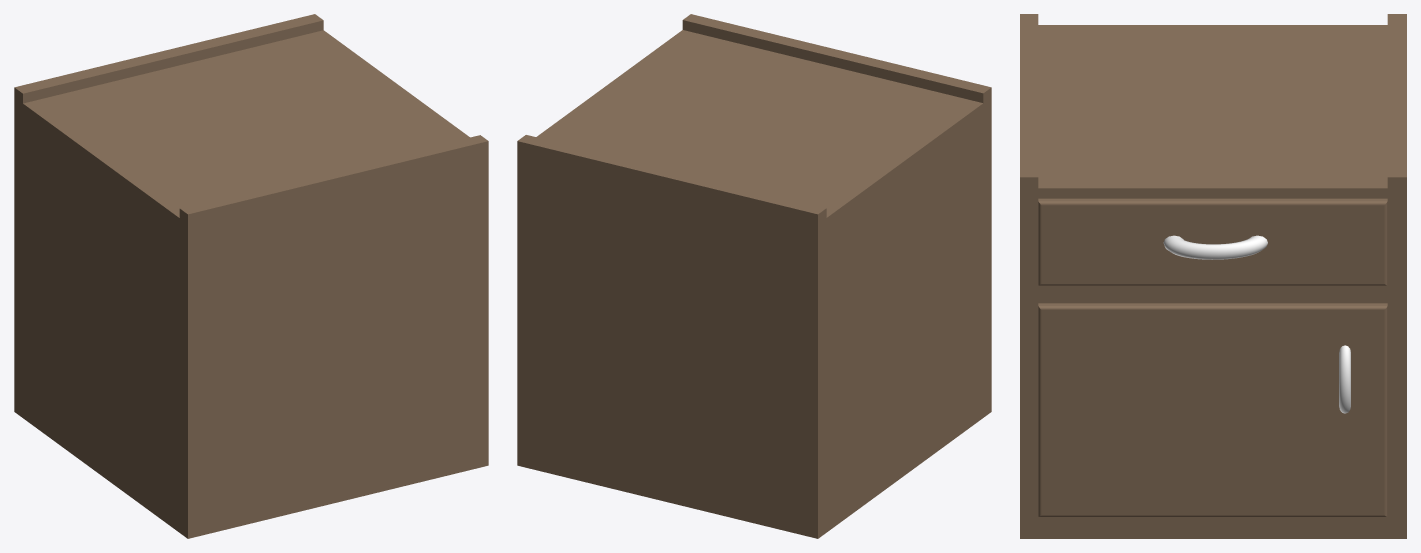
File: Night_Table.fbx
3 renders of one model, left to right at view 1: azimuth 30°, elevation 25°; view 2: azimuth 150°, elevation 25°; view 3: azimuth 270°, elevation 25°, orthographic. The views are drawn at different scales.
Parts seen in each view (by area): view 1: Cube; view 2: Cube; view 3: Cube.
Boxes of the visible parts, x1,y1,x2,y2 form: Cube: [14, 14, 488, 538]; Cube: [517, 14, 991, 538]; Cube: [1020, 14, 1406, 538].
Bounding box in the file's own units: 219 × 206 × 200.
